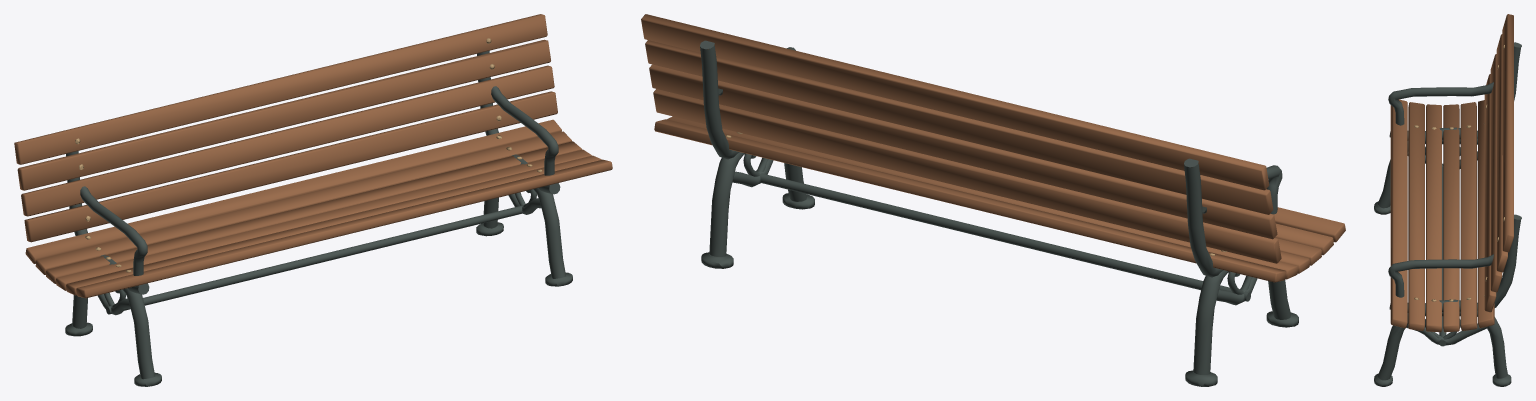
The model's file is HallSettee_LOD2.fbx.
The picture shows the model from 3 angles, left to right: view 1: azimuth 30°, elevation 25°; view 2: azimuth 150°, elevation 25°; view 3: azimuth 270°, elevation 25°; orthographic projection. The views are drawn at different scales.
Parts seen in each view (by area): view 1: HallSettee_LOD2; view 2: HallSettee_LOD2; view 3: HallSettee_LOD2.
Part boxes in pixels (box(x1,y1,x2,y2)): HallSettee_LOD2: box(14, 14, 612, 386); HallSettee_LOD2: box(641, 14, 1345, 386); HallSettee_LOD2: box(1374, 14, 1521, 386).
Bounding box in the file's own units: 283 × 102 × 79.88.
